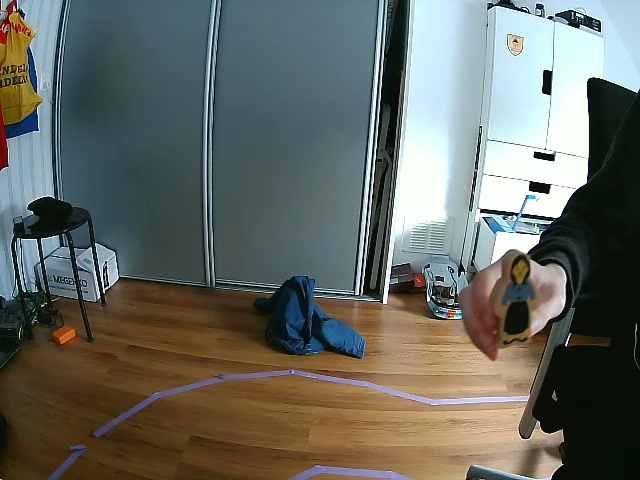mens: (492, 250, 538, 345)
